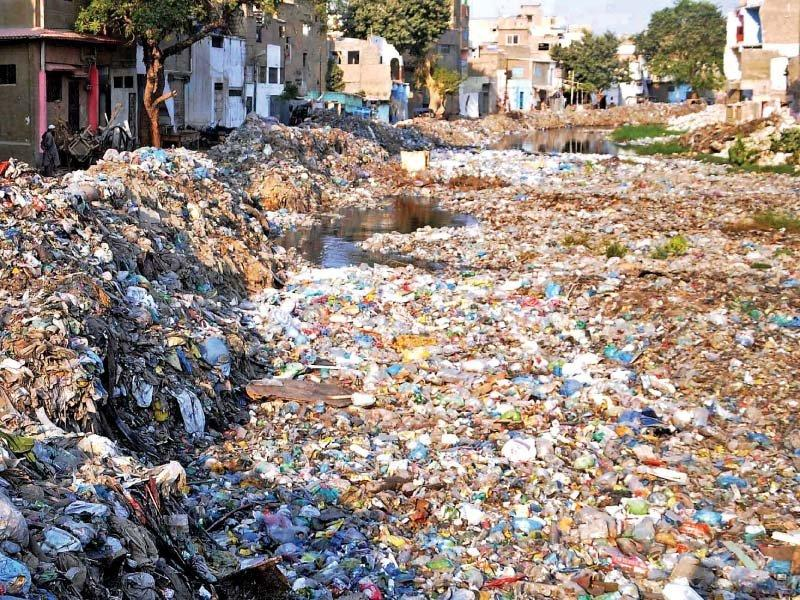garbage: (0, 103, 800, 600)
